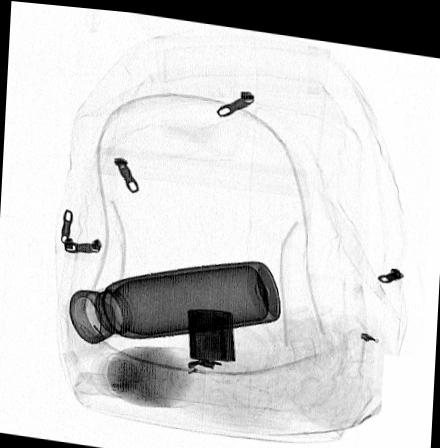Lighter: (187, 303, 236, 357)
